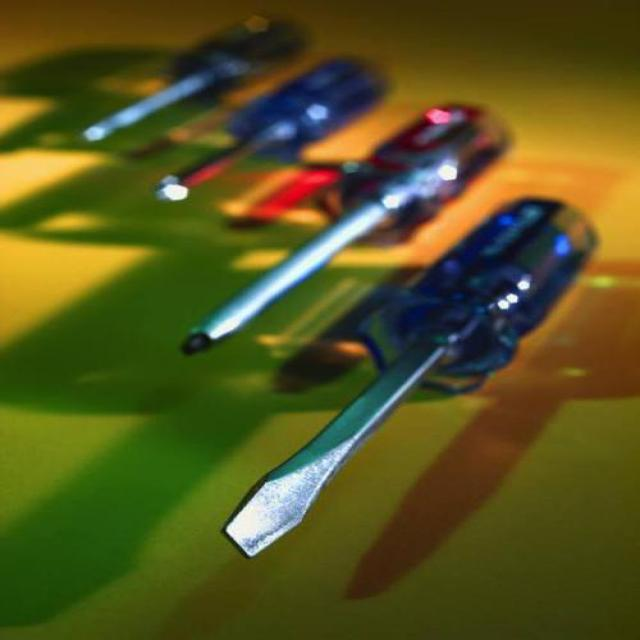screw driver: (212, 176, 640, 600)
